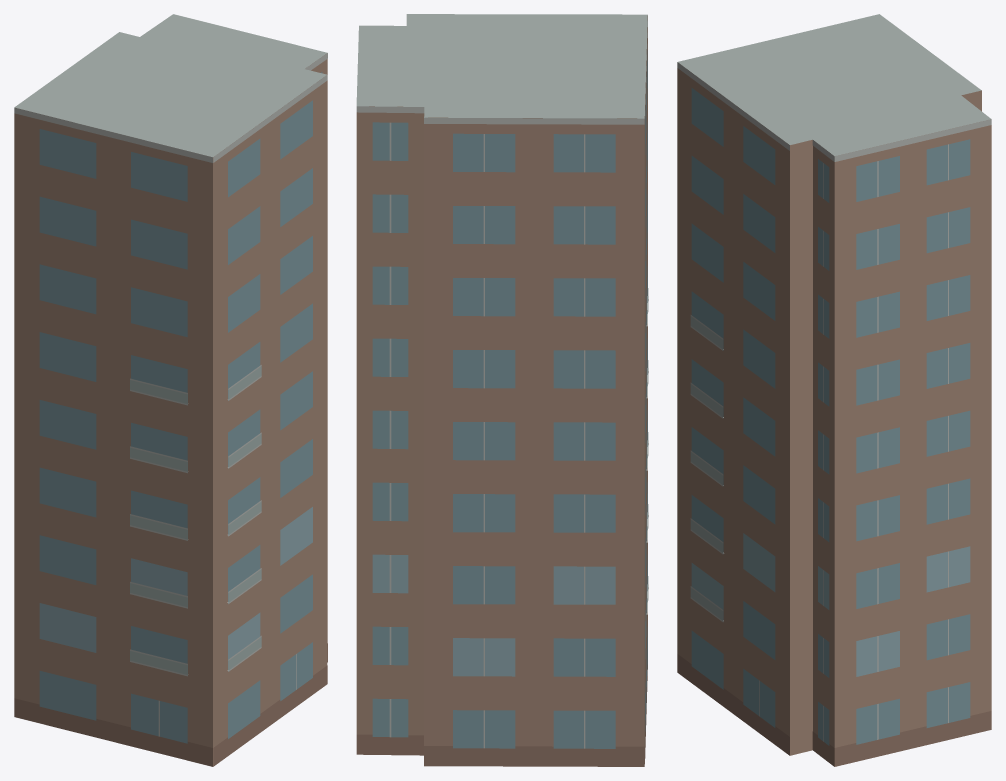
The model's file is survey-upis-32664379.glb.
3 views of the same model, side by side, from view 1: azimuth 30°, elevation 25°; view 2: azimuth 150°, elevation 25°; view 3: azimuth 270°, elevation 25° (orthographic). The views are drawn at different scales.
Visible parts, largest first — view 1: survey-upis-32664379.tmp; view 2: survey-upis-32664379.tmp; view 3: survey-upis-32664379.tmp.
Boxes of the visible parts, left/top/right/bottom form: survey-upis-32664379.tmp: left=14, top=14, right=327, bottom=766; survey-upis-32664379.tmp: left=356, top=14, right=648, bottom=766; survey-upis-32664379.tmp: left=677, top=14, right=991, bottom=766.
Bounding box in the file's own units: 12.7 × 25.4 × 11.86.
